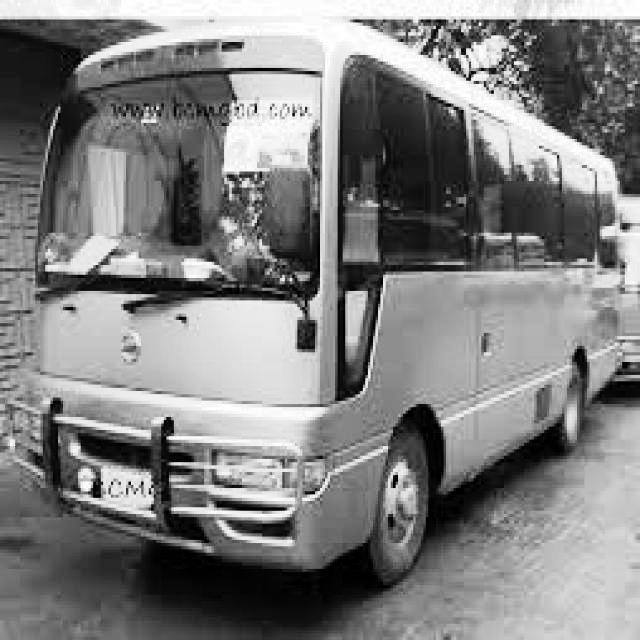Bus: (12, 12, 638, 599)
